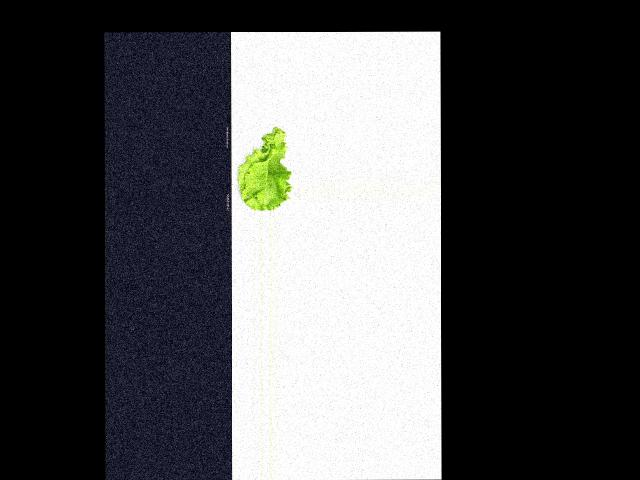lettuce: (233, 128, 292, 210)
